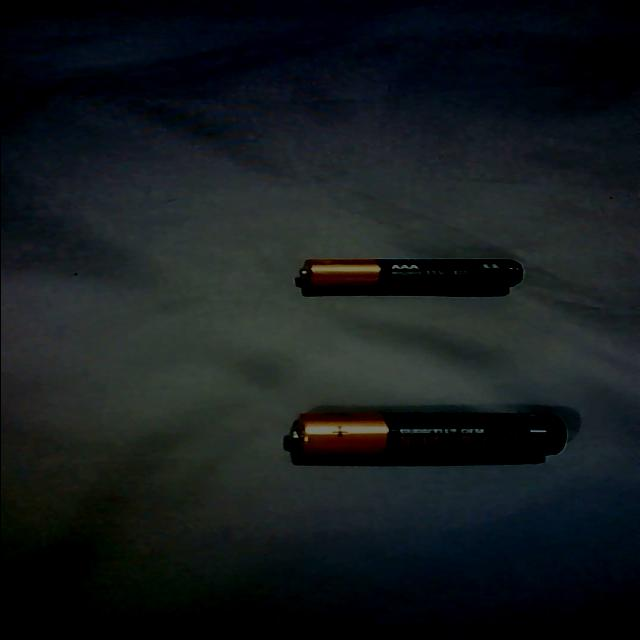AA: (277, 407, 570, 465)
AAA: (291, 254, 528, 299)
